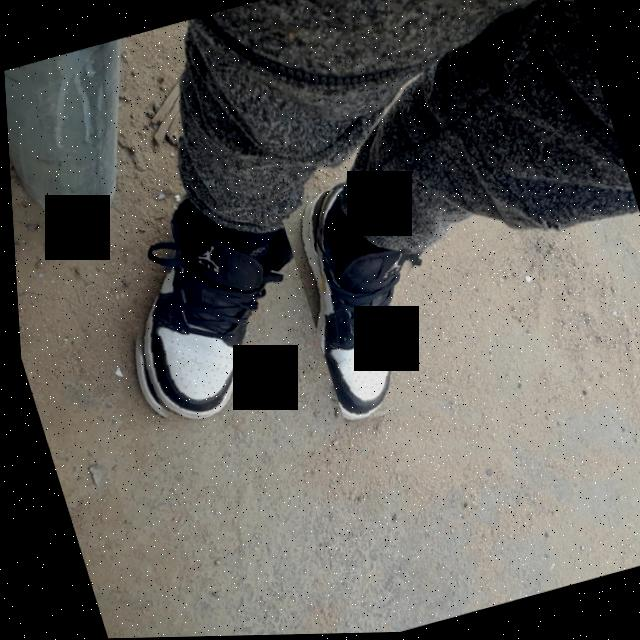shoe: (84, 171, 330, 435), (273, 174, 457, 431)
